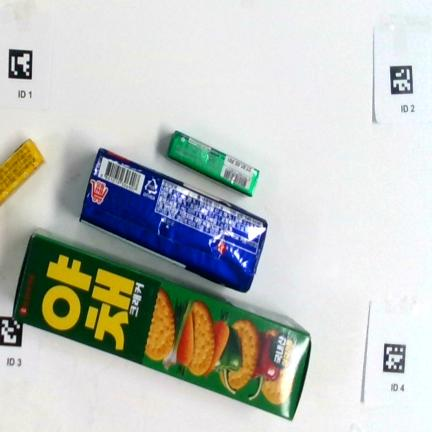cracker_ace: (79, 149, 268, 292)
cracker_vege: (13, 226, 310, 422)
gum_green: (166, 129, 259, 197)
gum_yellow: (0, 138, 46, 206)
